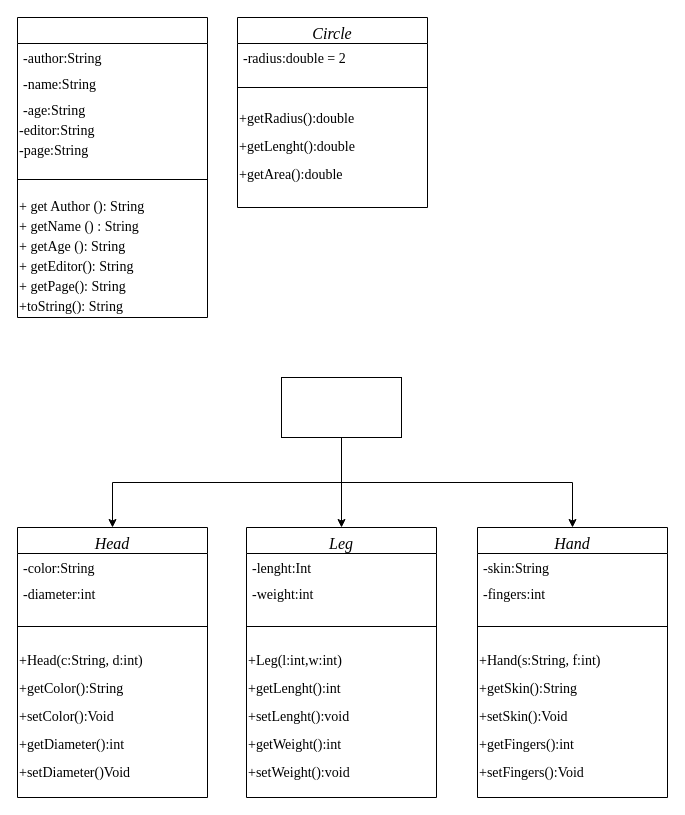
This 685x815 diagram has some shape labels left out. Each missing label, with the box of its shape:
Book: (16, 16, 208, 318)
Human: (280, 376, 402, 438)
